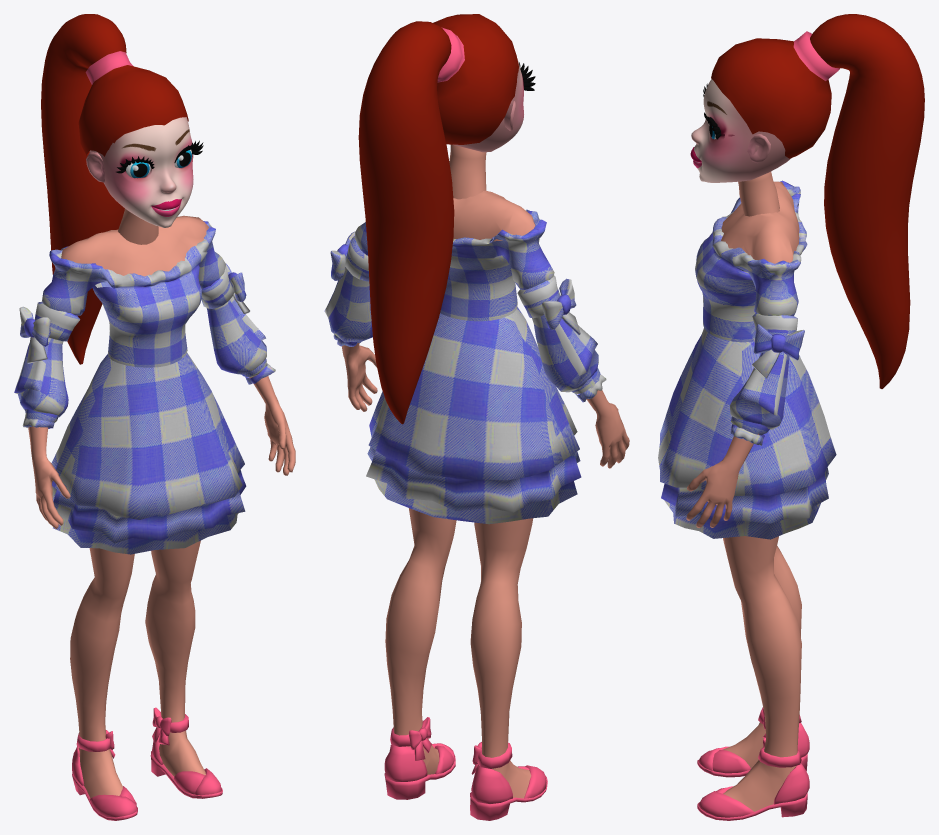
Rendered from Any_Barbie.fbx.
3 views of the same model, side by side, from view 1: azimuth 30°, elevation 25°; view 2: azimuth 150°, elevation 25°; view 3: azimuth 270°, elevation 25° (orthographic). The views are drawn at different scales.
Visible parts, largest first — view 1: Any_Barbie; view 2: Any_Barbie; view 3: Any_Barbie.
Boxes of the visible parts, x1,y1,x2,y2 form: Any_Barbie: [14, 14, 295, 820]; Any_Barbie: [324, 14, 629, 820]; Any_Barbie: [658, 14, 924, 820].
Bounding box in the file's own units: 0.6095 × 1.73 × 0.5416.
